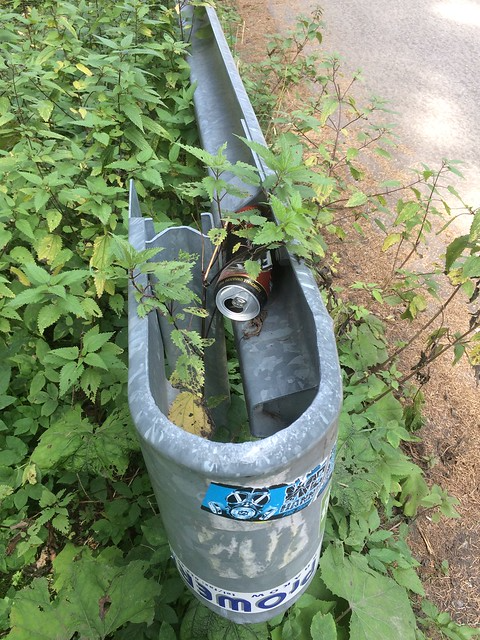can: (207, 199, 286, 322)
